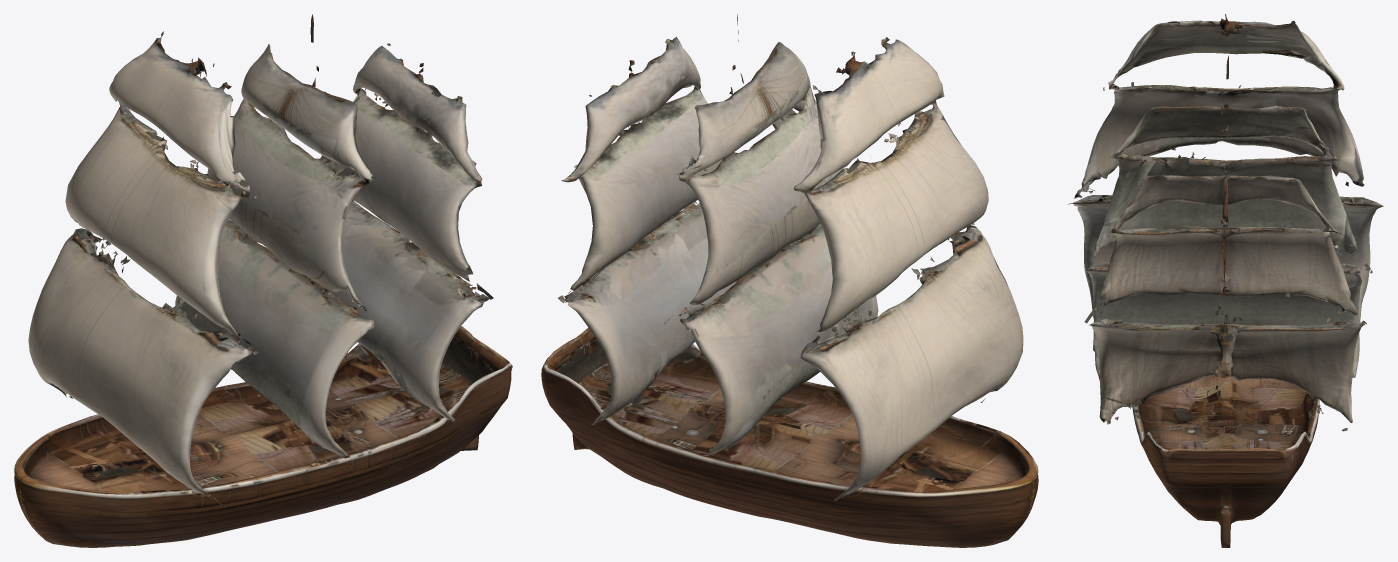
Rendered from brig.glb.
3 views of the same model, side by side, from view 1: azimuth 30°, elevation 25°; view 2: azimuth 150°, elevation 25°; view 3: azimuth 270°, elevation 25° (orthographic). The views are drawn at different scales.
Bounding box in the file's own units: 1.98 × 1.95 × 1.32.
1 material, 1 textured.
